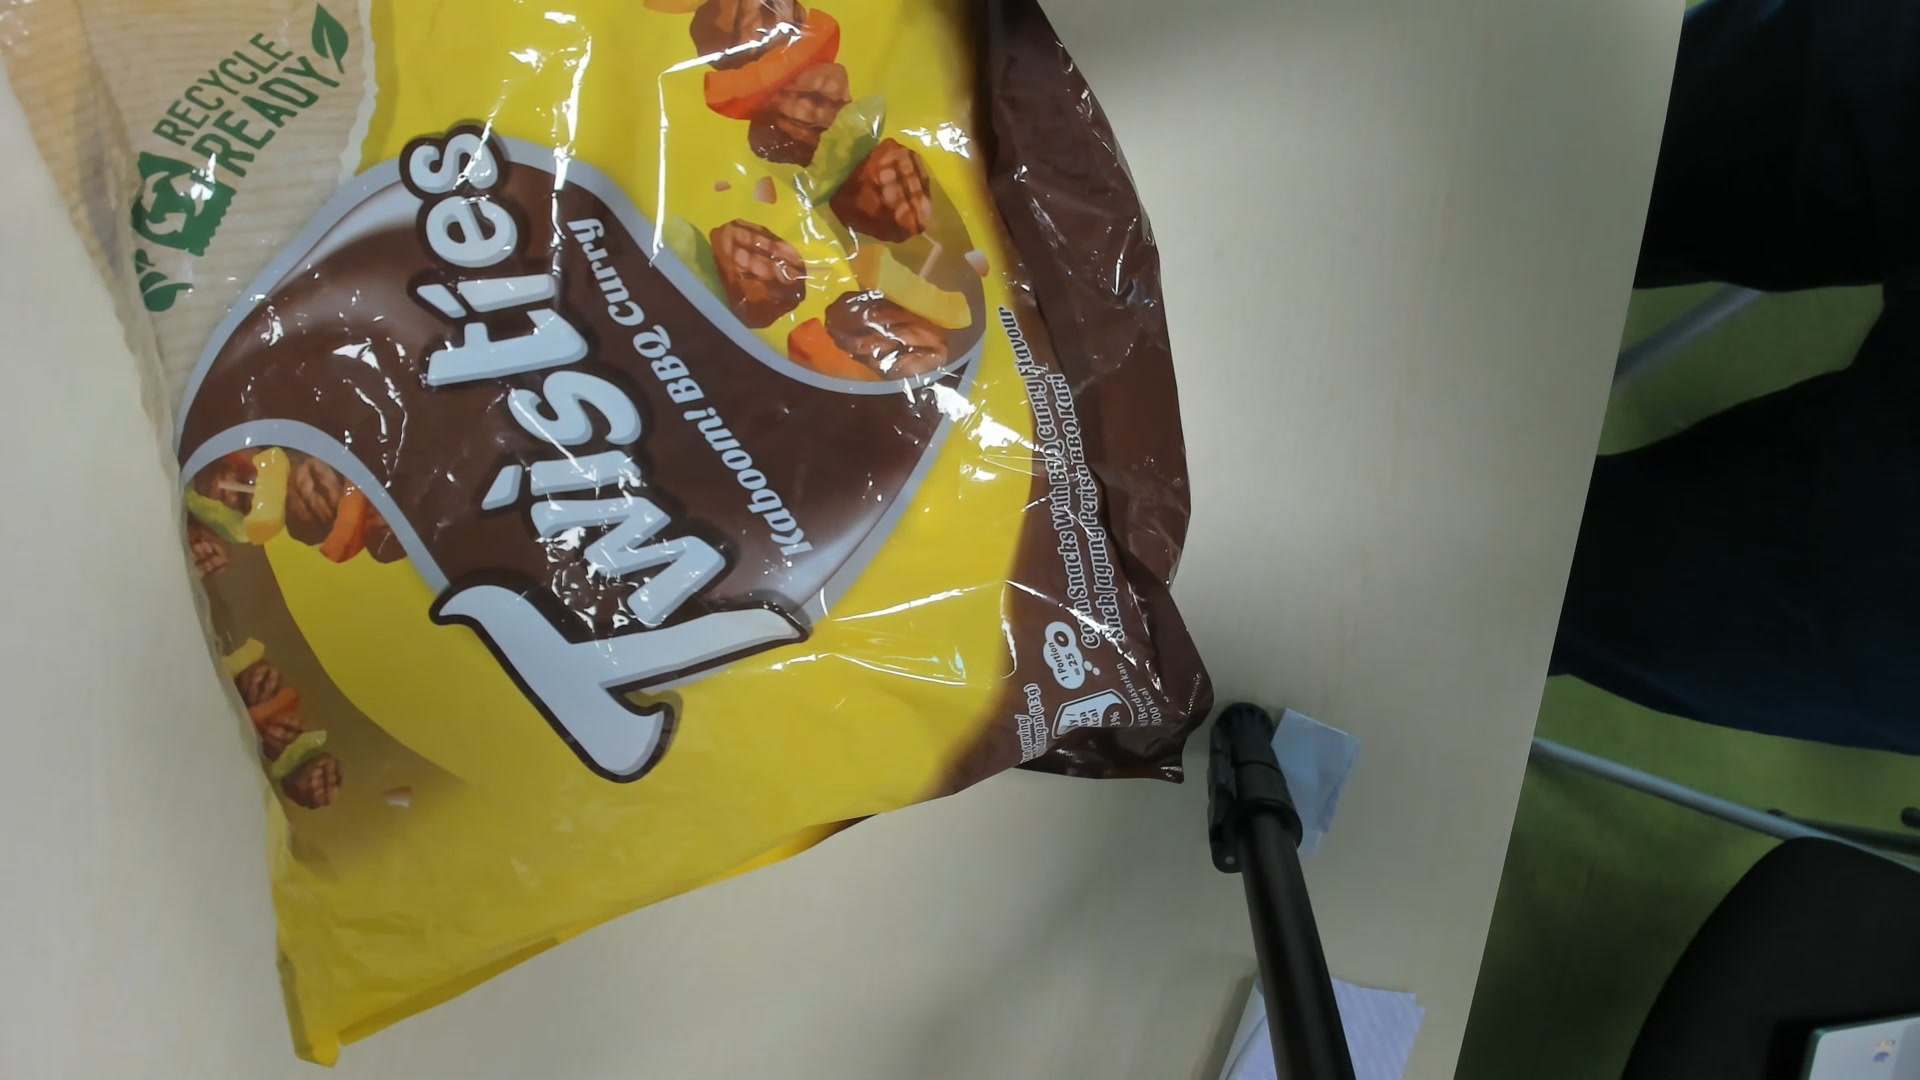PotatoChipsKeropok_0-99g_Halal_NonHealthy: (7, 9, 1207, 1080)
